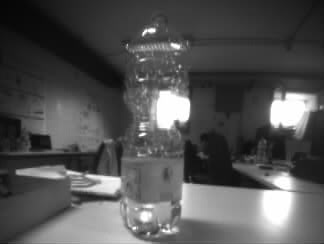Bottle: (119, 10, 191, 240)
